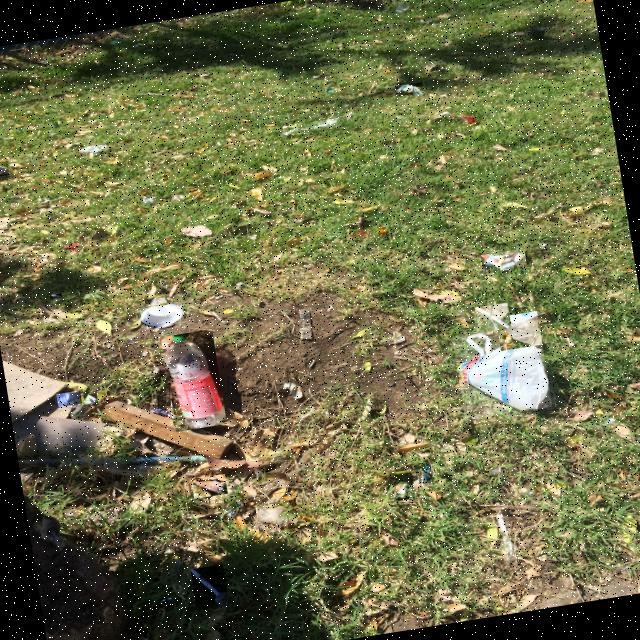Clear plastic bottle: (164, 333, 226, 428)
Other carton: (57, 392, 80, 407)
Other plastic: (193, 476, 227, 494), (150, 409, 187, 424)
Other plastic bottle: (256, 505, 299, 530), (497, 507, 514, 560)
Paper cup: (0, 166, 9, 176)
Plastic bottle cap: (188, 423, 201, 430)
Plastic film: (497, 317, 539, 346), (0, 217, 10, 229)
Plastic straw: (476, 307, 511, 329)
Plastic utensils: (191, 569, 228, 607)
Single-use carrier bag: (458, 334, 549, 411)
Spread tub: (142, 305, 184, 327)
Tissues: (397, 85, 424, 95), (146, 297, 167, 307)
Unlabeled litter: (284, 118, 340, 135), (481, 255, 525, 270), (394, 485, 407, 501), (79, 145, 108, 152), (424, 463, 432, 482), (84, 395, 98, 405), (50, 295, 62, 299), (328, 90, 333, 92)
